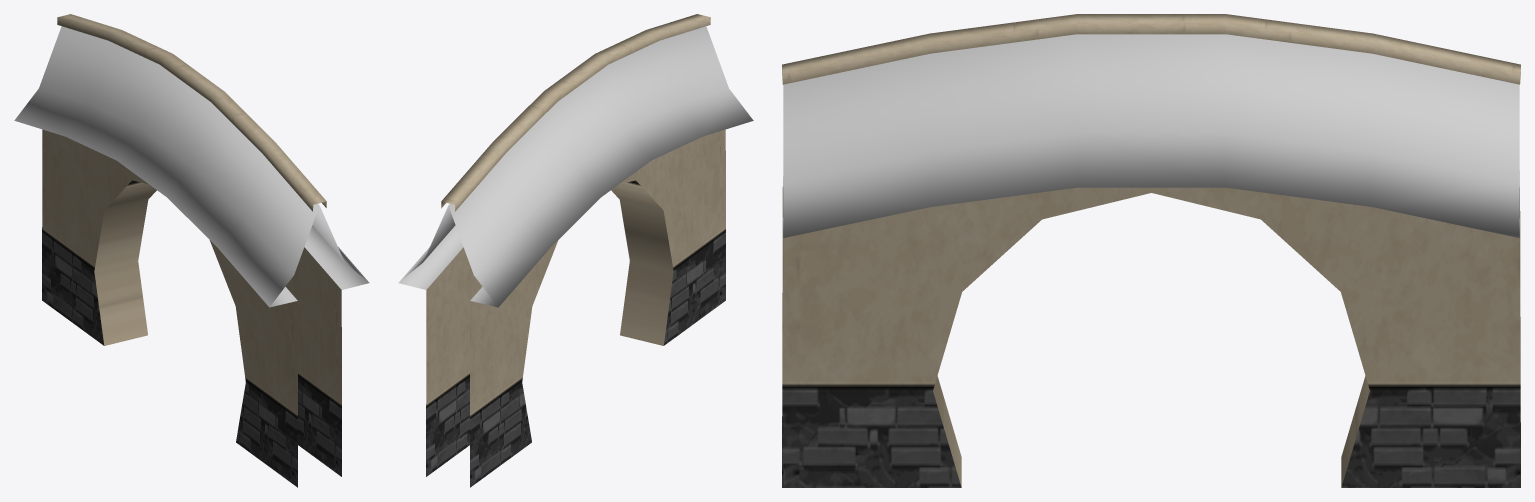
The model's file is Wall_01_5.FBX.
The picture shows the model from 3 angles, left to right: view 1: azimuth 30°, elevation 25°; view 2: azimuth 150°, elevation 25°; view 3: azimuth 270°, elevation 25°; orthographic projection. The views are drawn at different scales.
Parts seen in each view (by area): view 1: Box001; view 2: Box001; view 3: Box001.
Part boxes in pixels (x1=…): Box001: x1=14, y1=14, x2=369, y2=487; Box001: x1=398, y1=14, x2=753, y2=487; Box001: x1=782, y1=14, x2=1520, y2=487.
Size of the model in its own units: 0.8329 by 2.5 by 3.68.
